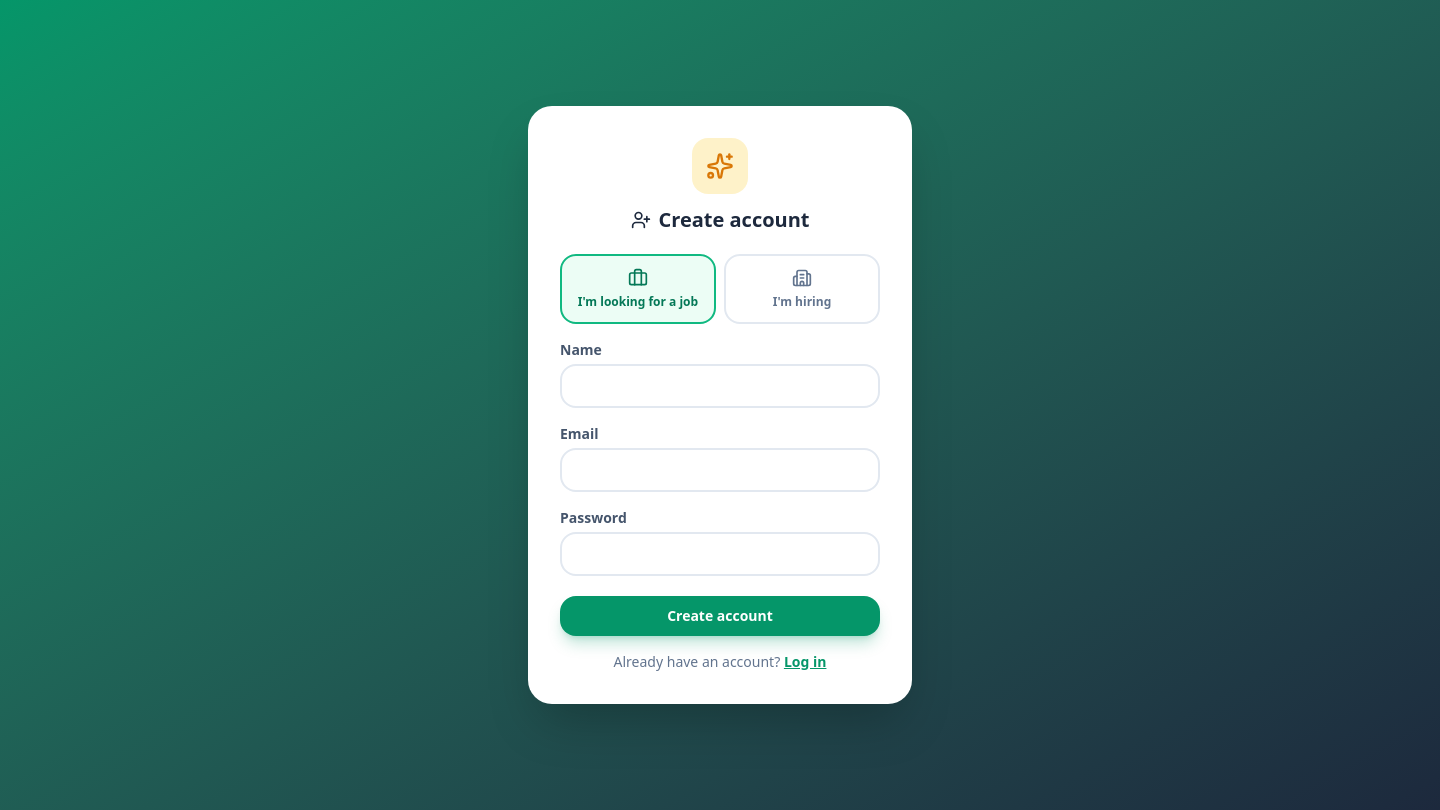
Register › shows an error message when registration fails
Type "Jane" into the field labelled "Name".
click(720, 386); type("Jane")  # box top-left (560, 364), bottom-right (880, 408)
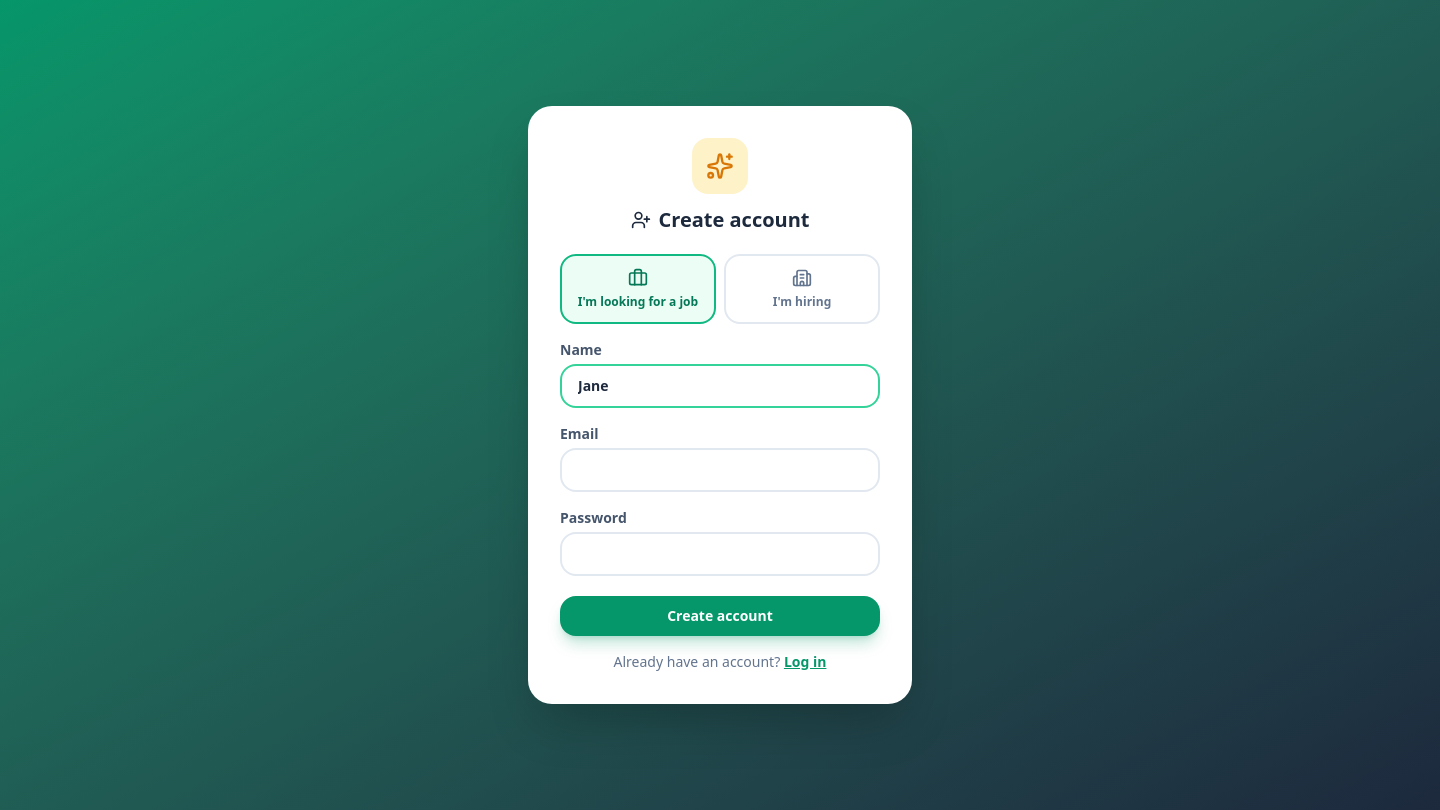
Type "jane@example.com" into the field labelled "Email".
click(720, 470); type("jane@example.com")  # box top-left (560, 448), bottom-right (880, 492)
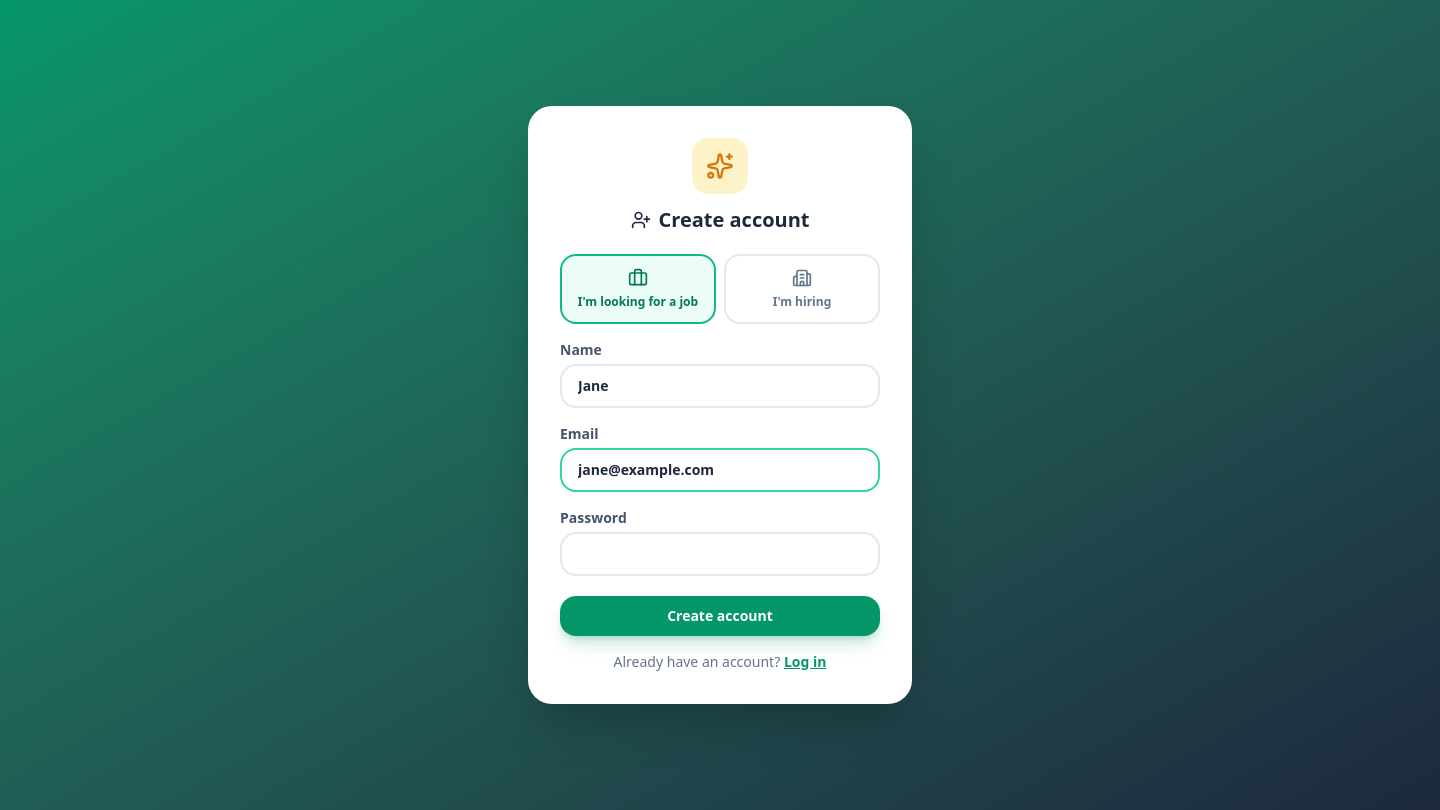
Type "hunter22" into the password field labelled "Password".
click(720, 554); type("hunter22")  # box top-left (560, 532), bottom-right (880, 576)
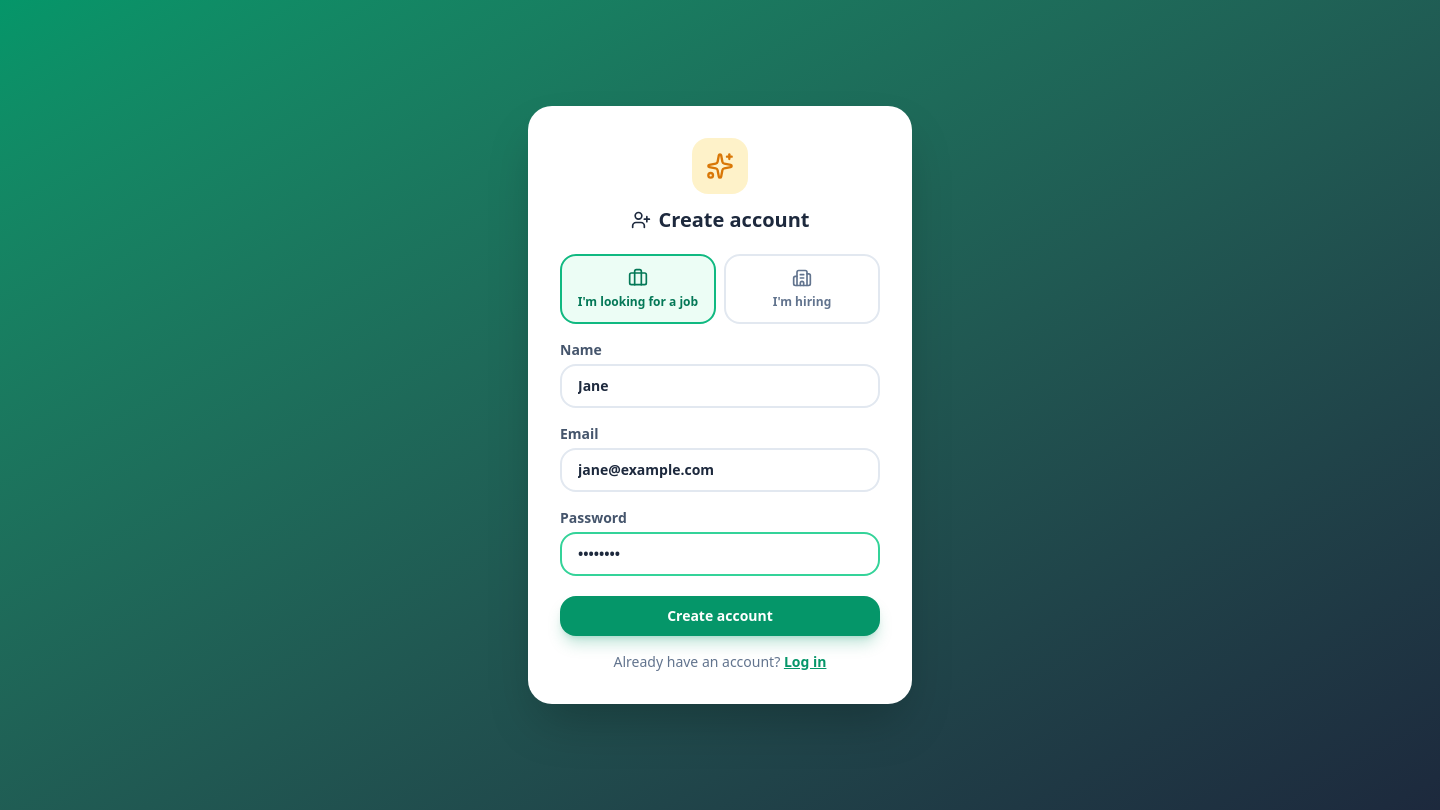
Click the button "Create account".
click(720, 616)  # box top-left (560, 596), bottom-right (880, 636)
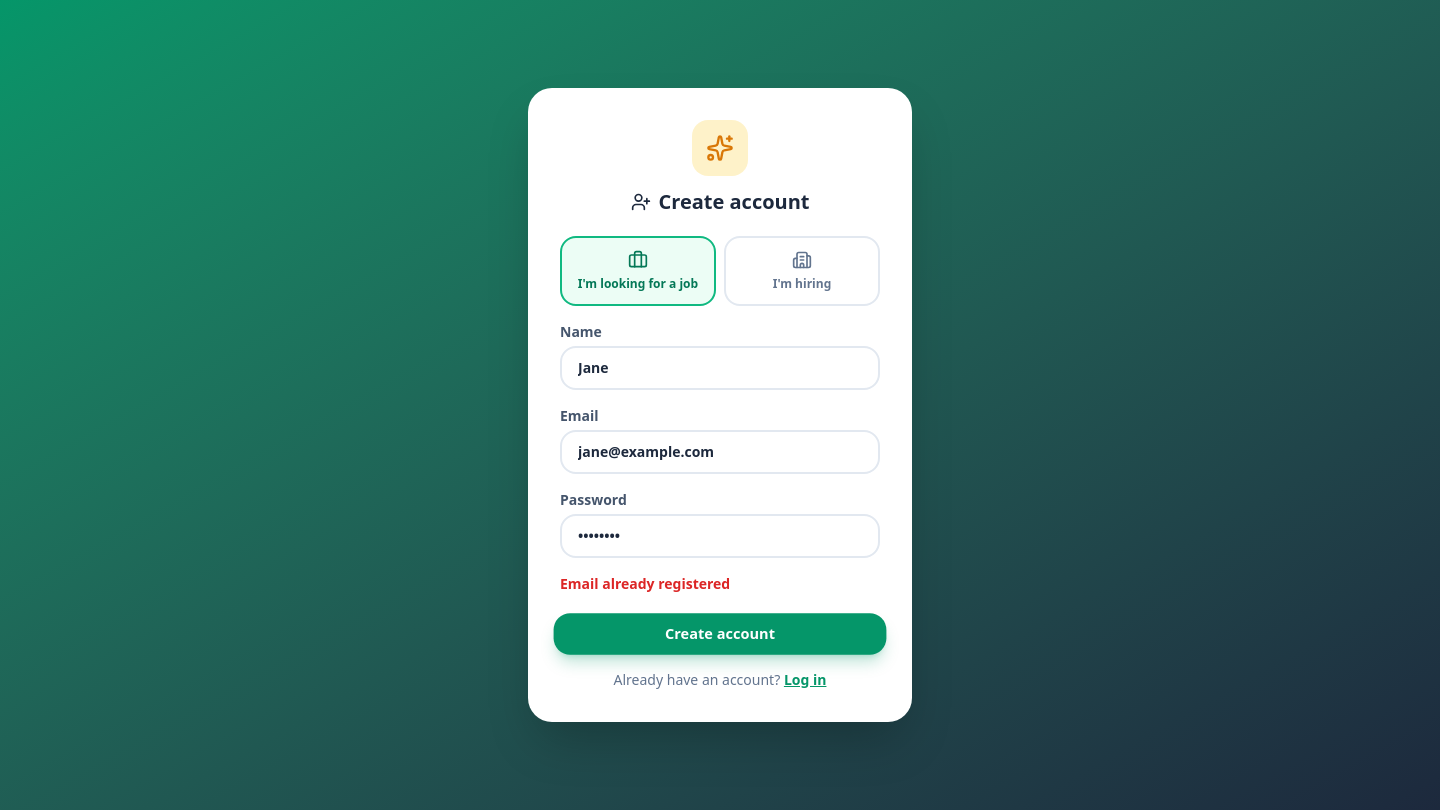
Expected: the message reads "Email already registered", top-left (560, 574), bottom-right (730, 593)
